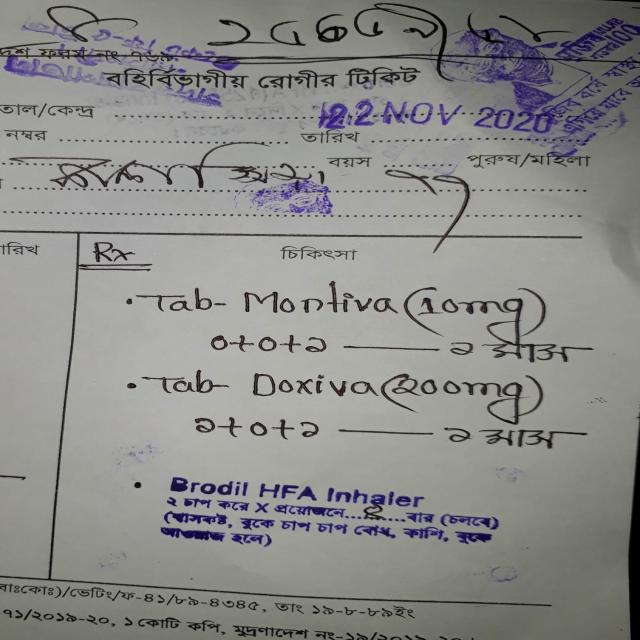Doxiva: (241, 364, 392, 407)
Montiva: (235, 281, 402, 320)
